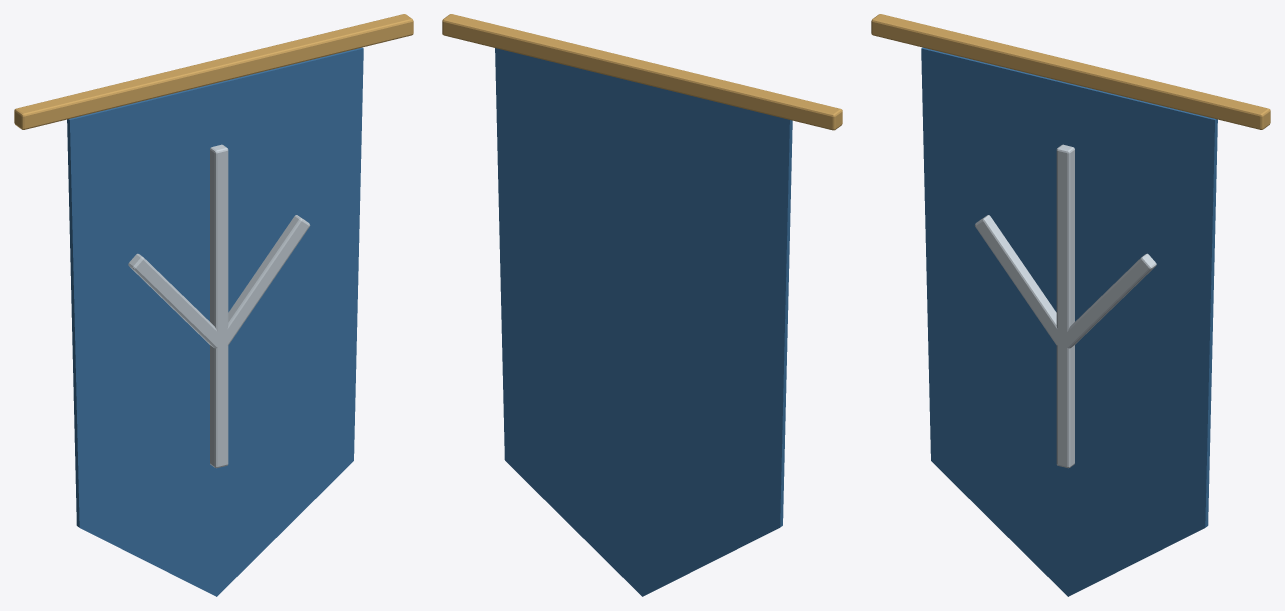
Rendered from banner.glb.
3 renders of one model, left to right at view 1: azimuth 30°, elevation 25°; view 2: azimuth 150°, elevation 25°; view 3: azimuth 330°, elevation 25°, orthographic.
Visible parts, largest first — view 1: Banner_Cloth, Banner_Pole, Banner_Emblem_Stem, Banner_Emblem_Wing.001, Banner_Emblem_Wing; view 2: Banner_Cloth, Banner_Pole; view 3: Banner_Cloth, Banner_Pole, Banner_Emblem_Stem, Banner_Emblem_Wing, Banner_Emblem_Wing.001.
Part boxes in pixels (x1=…): Banner_Cloth: x1=67, y1=47, x2=363, y2=596; Banner_Pole: x1=14, y1=14, x2=413, y2=129; Banner_Emblem_Stem: x1=210, y1=144, x2=228, y2=468; Banner_Emblem_Wing.001: x1=220, y1=215, x2=310, y2=345; Banner_Emblem_Wing: x1=128, y1=253, x2=221, y2=348; Banner_Cloth: x1=495, y1=48, x2=792, y2=596; Banner_Pole: x1=442, y1=14, x2=842, y2=130; Banner_Cloth: x1=921, y1=47, x2=1217, y2=596; Banner_Pole: x1=871, y1=14, x2=1270, y2=129; Banner_Emblem_Stem: x1=1056, y1=144, x2=1074, y2=468; Banner_Emblem_Wing: x1=974, y1=215, x2=1064, y2=345; Banner_Emblem_Wing.001: x1=1067, y1=253, x2=1156, y2=348.
Bounding box in the file's own units: 2 × 2.59 × 0.115.
